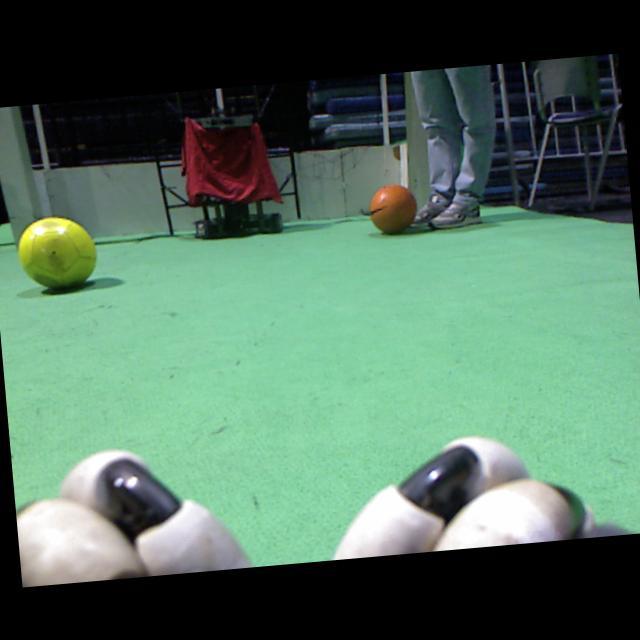ball: (19, 217, 96, 289), (370, 185, 416, 233)
goal: (0, 107, 35, 251), (404, 71, 434, 209)
